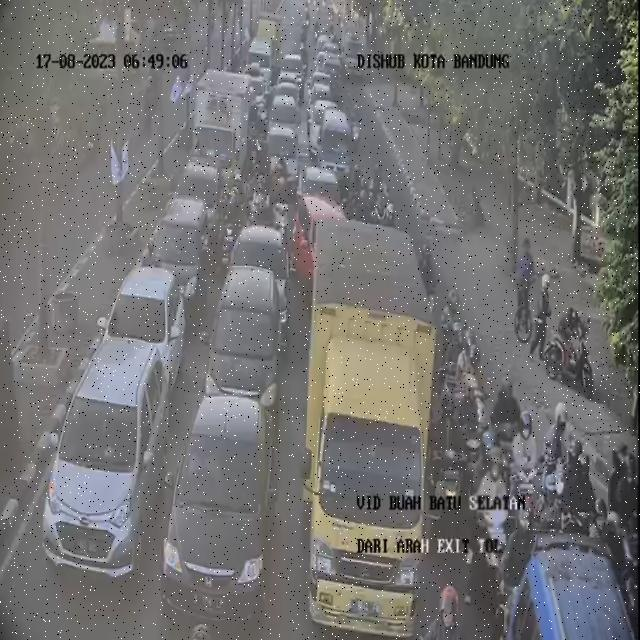bus: (190, 72, 249, 189)
cars: (166, 371, 275, 640), (43, 335, 165, 569), (504, 540, 634, 640), (209, 261, 287, 407), (103, 269, 187, 389), (230, 223, 294, 335), (157, 195, 207, 300), (179, 159, 222, 247), (320, 108, 354, 201), (296, 166, 342, 210), (250, 31, 281, 91), (267, 126, 298, 181), (270, 94, 301, 140), (313, 102, 342, 148), (308, 68, 335, 102), (282, 51, 306, 89), (274, 74, 304, 104)
motorcycle: (427, 385, 469, 545), (608, 439, 640, 581), (473, 455, 508, 580), (442, 321, 479, 418), (545, 396, 575, 510), (515, 407, 542, 525), (423, 572, 470, 638), (530, 474, 566, 558), (491, 373, 520, 474), (364, 162, 393, 237), (221, 176, 245, 264), (514, 231, 542, 301), (252, 180, 282, 236), (441, 286, 465, 340), (248, 140, 264, 206), (253, 140, 267, 201), (351, 107, 364, 151)
truck: (300, 216, 428, 640)
